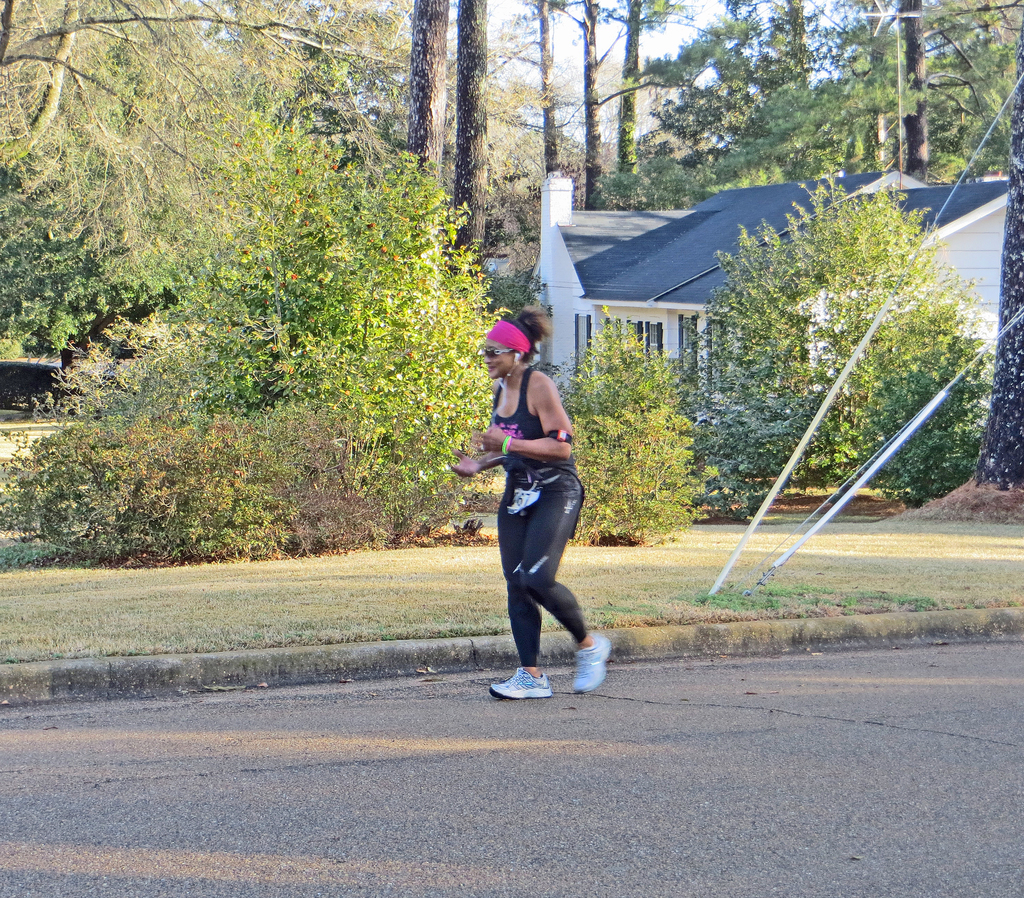Footwear: (570, 632, 609, 693), (490, 668, 552, 699)
